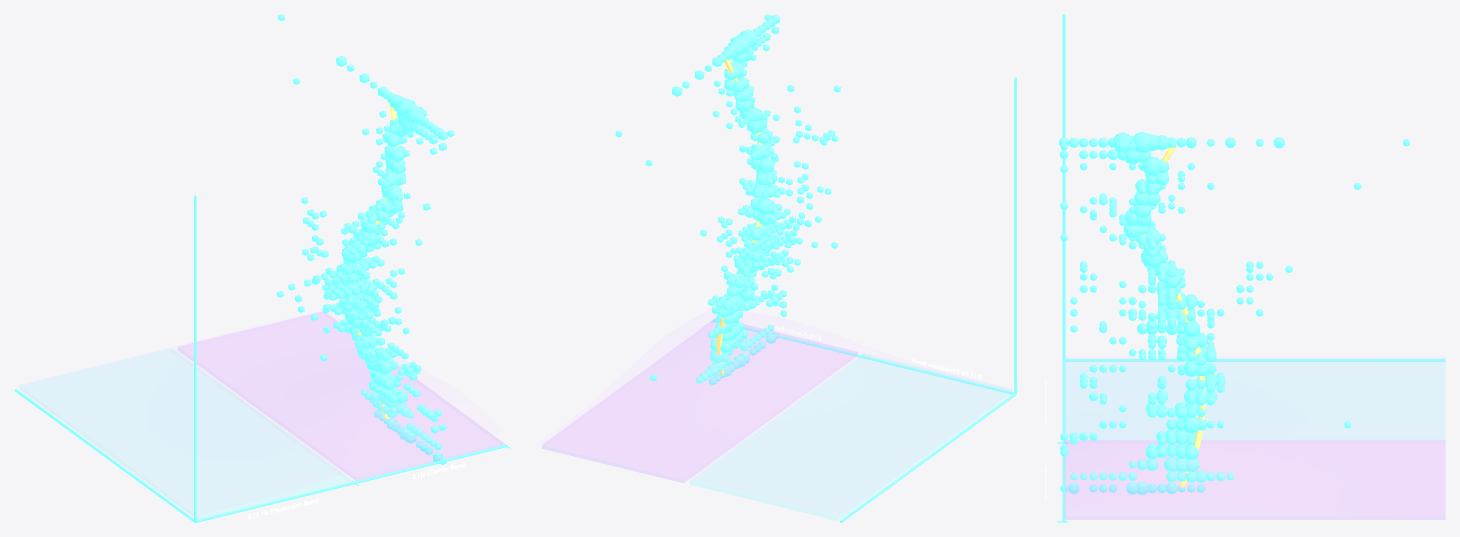
File: cube_synthetic.glb
The picture shows the model from 3 angles, left to right: view 1: azimuth 30°, elevation 25°; view 2: azimuth 150°, elevation 25°; view 3: azimuth 270°, elevation 25°; orthographic projection. The views are drawn at different scales.
Parts seen in each view (by area): view 1: synthetic_BandLandscape, synthetic_BandSlab_Modulation Band, synthetic_BandSlab_Carrier Band, synthetic_EnergyLobes, synthetic_Axis_fc, synthetic_Axis_t, synthetic_Axis_fam; view 2: synthetic_BandLandscape, synthetic_BandSlab_Modulation Band, synthetic_BandSlab_Carrier Band, synthetic_EnergyLobes, synthetic_Axis_t, synthetic_Axis_fc, synthetic_Axis_fam; view 3: synthetic_BandLandscape, synthetic_BandSlab_Carrier Band, synthetic_BandSlab_Modulation Band, synthetic_EnergyLobes, synthetic_Axis_t, synthetic_Axis_fam, synthetic_Axis_fc.
Boxes of the visible parts, x1,y1,x2,y2 form: synthetic_BandLandscape: (17, 311, 505, 515); synthetic_BandSlab_Modulation Band: (19, 349, 350, 518); synthetic_BandSlab_Carrier Band: (178, 312, 502, 480); synthetic_EnergyLobes: (277, 14, 454, 464); synthetic_Axis_fc: (195, 444, 506, 522); synthetic_Axis_t: (194, 195, 196, 522); synthetic_Axis_fam: (14, 389, 195, 522); synthetic_BandLandscape: (541, 309, 1013, 515); synthetic_BandSlab_Modulation Band: (690, 354, 1011, 520); synthetic_BandSlab_Carrier Band: (542, 318, 857, 482); synthetic_EnergyLobes: (615, 14, 840, 384); synthetic_Axis_t: (1014, 77, 1016, 393); synthetic_Axis_fc: (713, 319, 1014, 394); synthetic_Axis_fam: (840, 393, 1016, 522); synthetic_BandLandscape: (1064, 355, 1444, 515); synthetic_BandSlab_Carrier Band: (1064, 441, 1444, 519); synthetic_BandSlab_Modulation Band: (1064, 358, 1444, 439); synthetic_EnergyLobes: (1059, 131, 1409, 495); synthetic_Axis_t: (1062, 14, 1065, 359); synthetic_Axis_fam: (1065, 359, 1445, 361); synthetic_Axis_fc: (1062, 359, 1065, 522).
Size of the model in its own units: 10.06 by 10.53 by 10.49.
